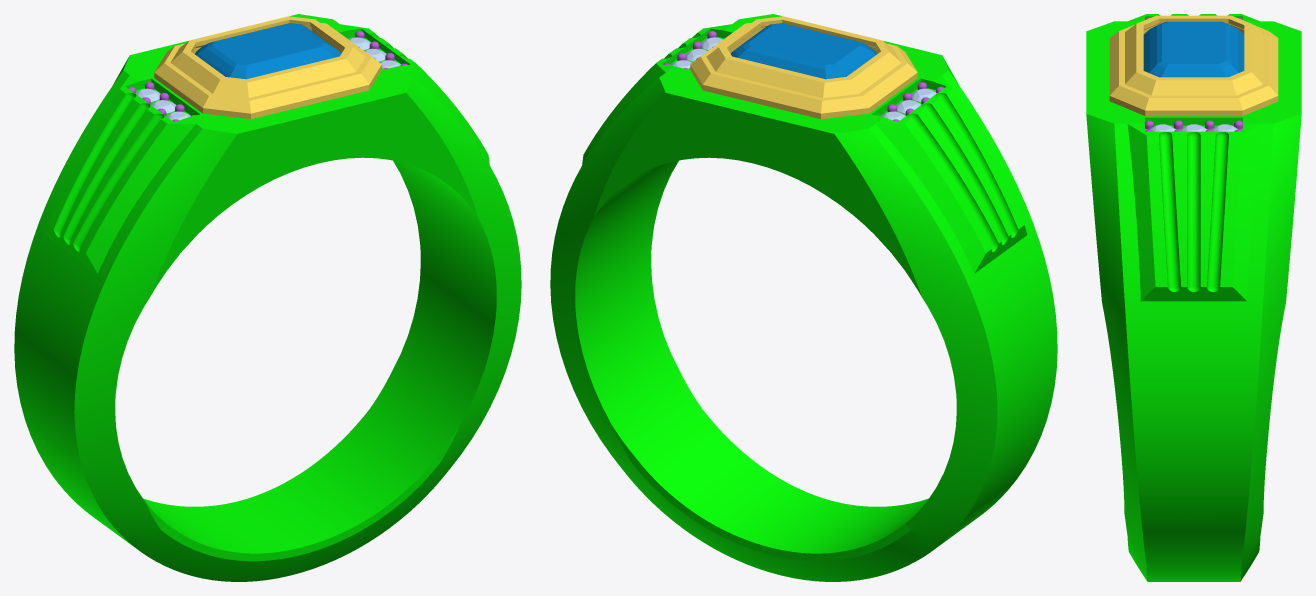
The picture shows the model from 3 angles, left to right: view 1: azimuth 30°, elevation 25°; view 2: azimuth 150°, elevation 25°; view 3: azimuth 270°, elevation 25°; orthographic projection.
Visible parts, largest first — view 1: anel brits.3dm, Diamond_Emerald; view 2: anel brits.3dm, Diamond_Emerald; view 3: anel brits.3dm, Diamond_Emerald.
Part boxes in pixels (bbox=[...]): anel brits.3dm: bbox=[14, 14, 521, 581]; Diamond_Emerald: bbox=[195, 23, 341, 79]; anel brits.3dm: bbox=[550, 14, 1057, 581]; Diamond_Emerald: bbox=[730, 23, 876, 79]; anel brits.3dm: bbox=[1086, 14, 1301, 581]; Diamond_Emerald: bbox=[1143, 21, 1244, 77].
Bounding box in the file's own units: 2.59 × 2.85 × 1.08.
